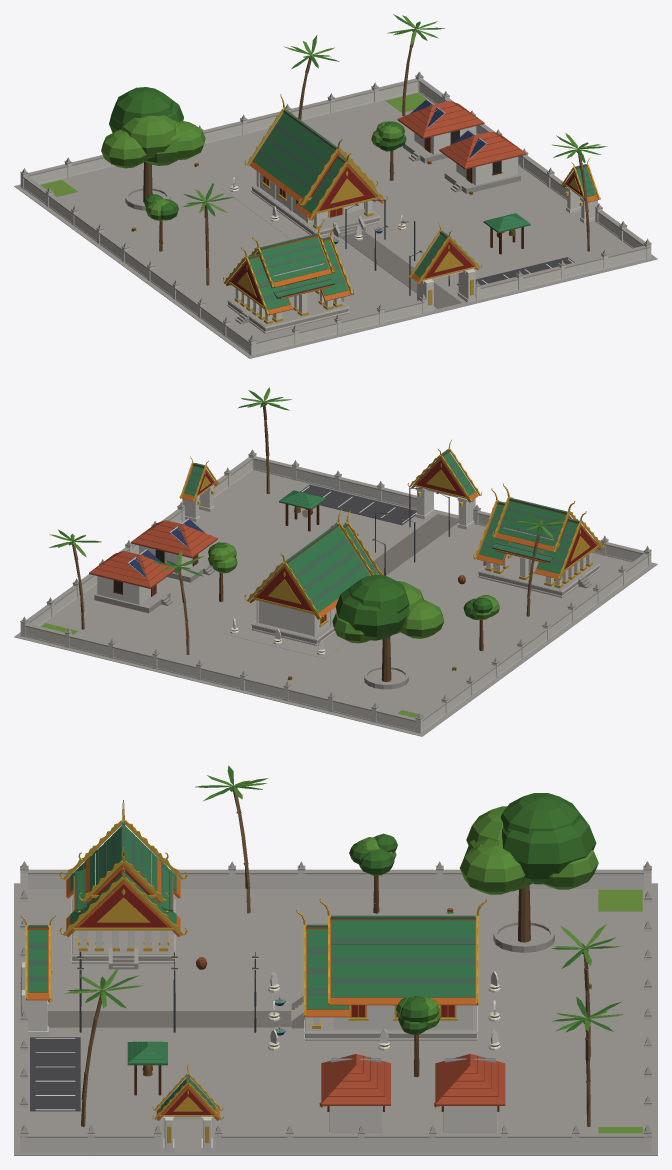
Rendered from temple_1.glb.
The picture shows the model from 3 angles, top to bottom: view 1: azimuth 30°, elevation 25°; view 2: azimuth 150°, elevation 25°; view 3: azimuth 270°, elevation 25°; orthographic projection. The views are drawn at different scales.
Visible parts, largest first — view 1: body; view 2: body; view 3: body.
Boxes of the visible parts, x1,y1,x2,y2 form: body: [14, 14, 657, 358]; body: [14, 387, 657, 736]; body: [14, 765, 657, 1155].
Bounding box in the file's own units: 47.9 × 12.15 × 47.9.
